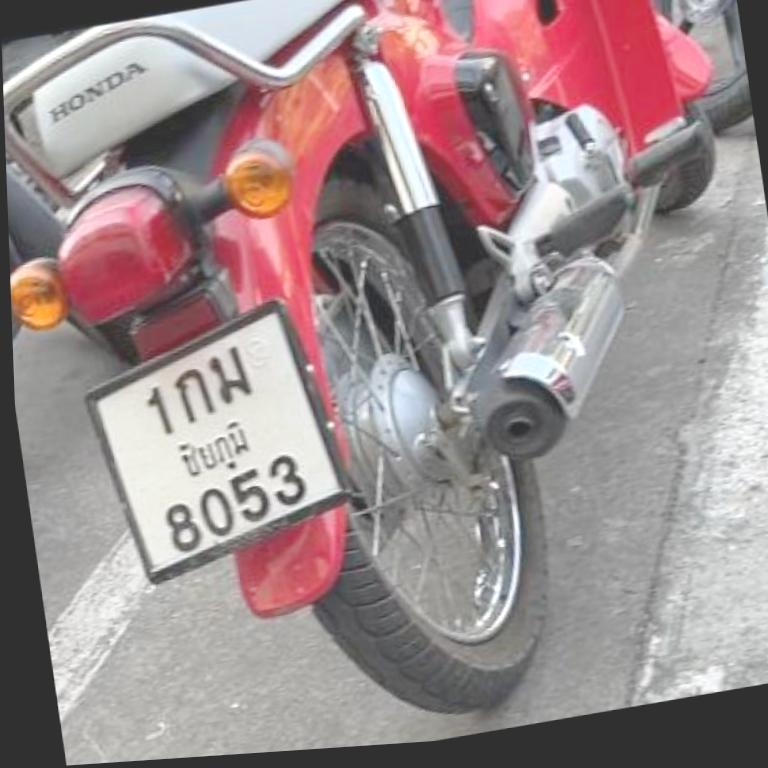license plate: (87, 304, 346, 582)
